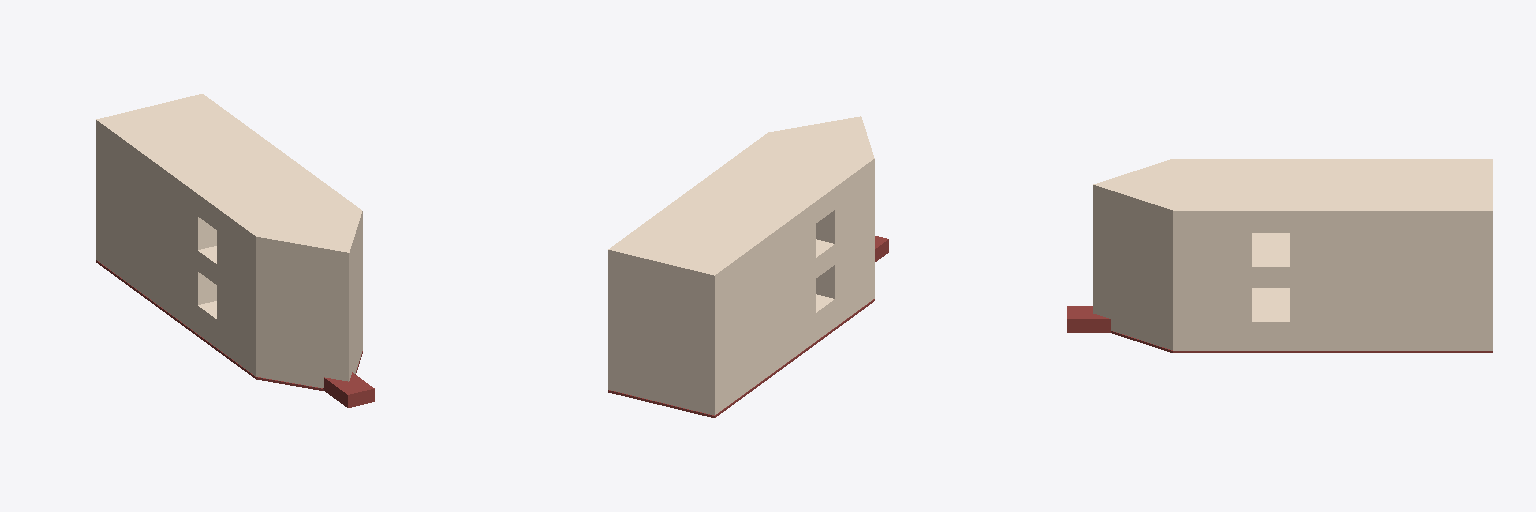
The model's file is tinker.obj.
3 renders of one model, left to right at view 1: azimuth 30°, elevation 25°; view 2: azimuth 150°, elevation 25°; view 3: azimuth 270°, elevation 25°, orthographic.
Visible parts, largest first — view 1: obj_0; view 2: obj_0; view 3: obj_0.
Boxes of the visible parts, <box> form: obj_0: <box>96,94,374,407</box>; obj_0: <box>608,116,888,417</box>; obj_0: <box>1067,159,1492,352</box>.
Bounding box in the file's own units: 20 × 25.61 × 69.3.